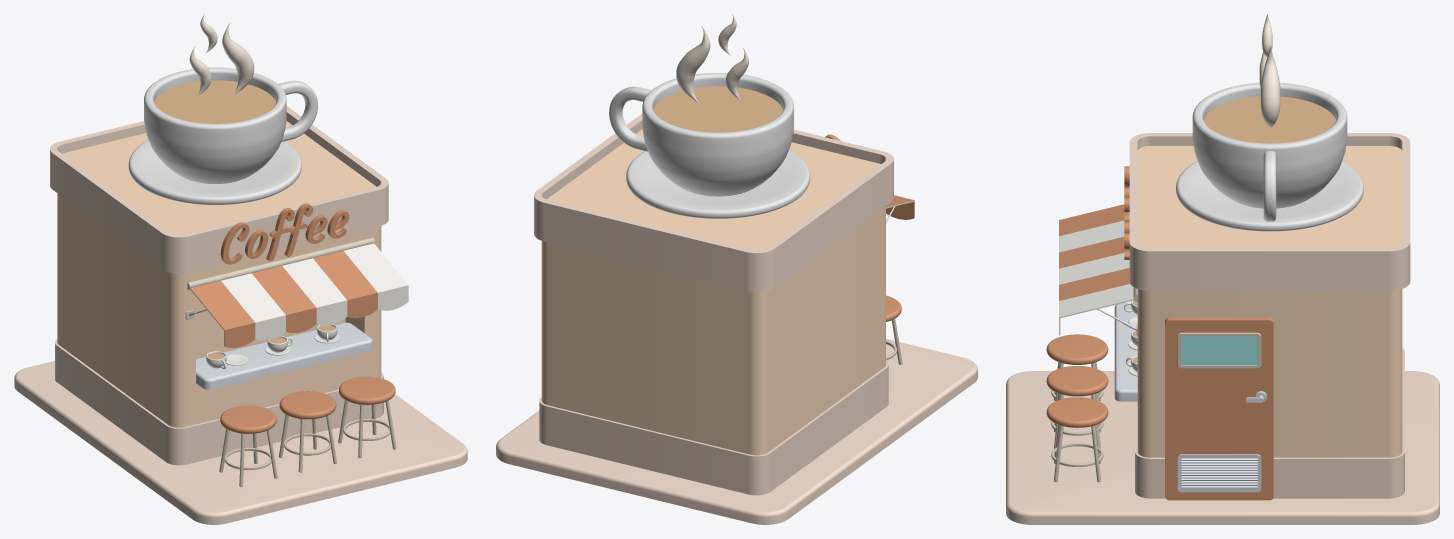
Rendered from Building.glb.
3 views of the same model, side by side, from view 1: azimuth 30°, elevation 25°; view 2: azimuth 150°, elevation 25°; view 3: azimuth 270°, elevation 25° (orthographic). The views are drawn at different scales.
Visible parts, largest first — view 1: Cube, Plane.007, Cube.001, Circle.009, Plane.001, Cube.002, Circle.008, Cube.004, Text, Circle.005, Circle, Circle.003 (+6 smaller); view 2: Cube, Plane.007, Cube.001, Circle.009, Cube.002, Circle.008, Circle.007, Vert.003, Plane.001; view 3: Cube, Plane.007, Cube.001, Circle.009, Plane.002, Cube.002, Plane.001, Circle.008, Plane.003, Cube.007, Cube.004, Circle (+7 smaller).
Part boxes in pixels (box(x1,y1,x2,y2)): Cube: box(57, 121, 381, 427); Plane.007: box(14, 361, 467, 524); Cube.001: box(50, 106, 388, 273); Circle.009: box(144, 67, 286, 183); Plane.001: box(190, 243, 408, 347); Cube.002: box(55, 339, 383, 465); Circle.008: box(128, 140, 301, 204); Cube.004: box(196, 322, 372, 389); Text: box(220, 203, 349, 264); Circle.005: box(279, 391, 336, 419); Circle: box(220, 405, 276, 433); Circle.003: box(339, 376, 395, 404); Cube: box(541, 129, 885, 455); Plane.007: box(496, 339, 977, 524); Cube.001: box(534, 114, 893, 291); Circle.009: box(642, 73, 793, 196); Cube.002: box(539, 361, 888, 495); Circle.008: box(626, 150, 810, 218); Circle.007: box(609, 86, 651, 151); Vert.003: box(676, 26, 710, 104); Plane.001: box(886, 195, 914, 219); Cube: box(1137, 146, 1402, 457); Plane.007: box(1006, 371, 1439, 524); Cube.001: box(1129, 133, 1410, 290); Circle.009: box(1192, 83, 1347, 208); Plane.002: box(1165, 317, 1273, 500); Cube.002: box(1135, 348, 1404, 498); Plane.001: box(1059, 204, 1133, 335); Circle.008: box(1176, 161, 1363, 231); Plane.003: box(1177, 332, 1261, 368); Cube.007: box(1181, 458, 1257, 488); Cube.004: box(1114, 302, 1137, 401); Circle: box(1046, 334, 1108, 364).
Bounding box in the file's own units: 2.57 × 3.59 × 3.28.
